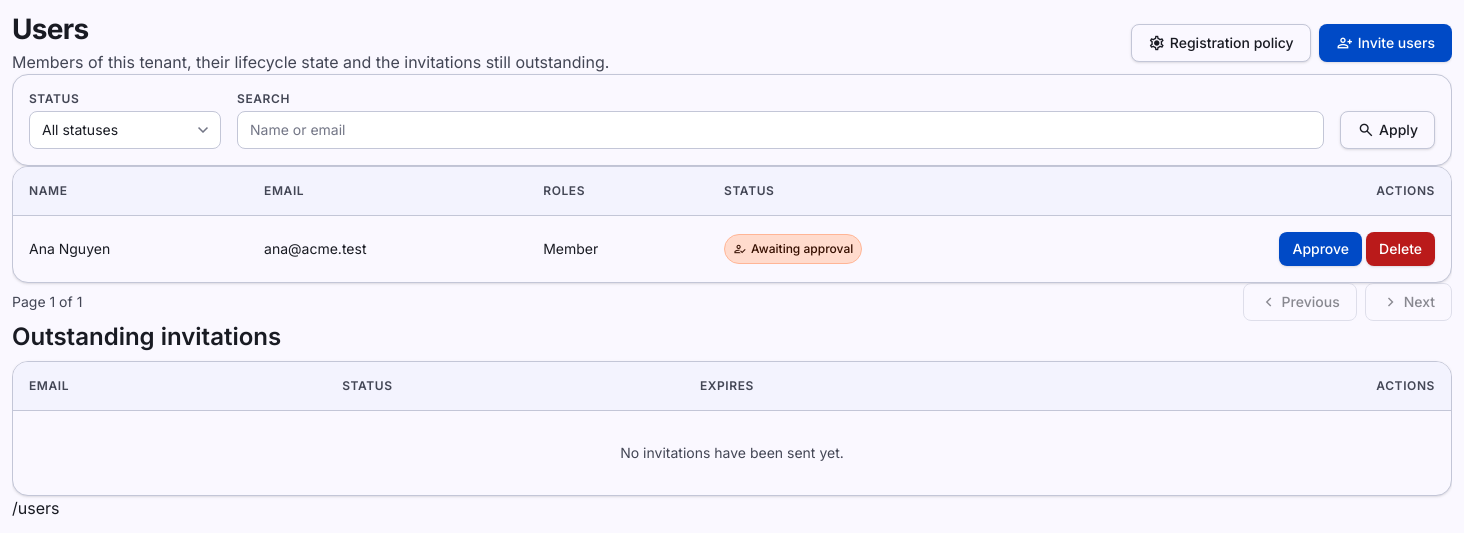
Test: UsersPage › offers approve only for a pending user and refreshes after it succeeds
Click the button "Approve" at (1321, 249), box [1280,232,1362,266]
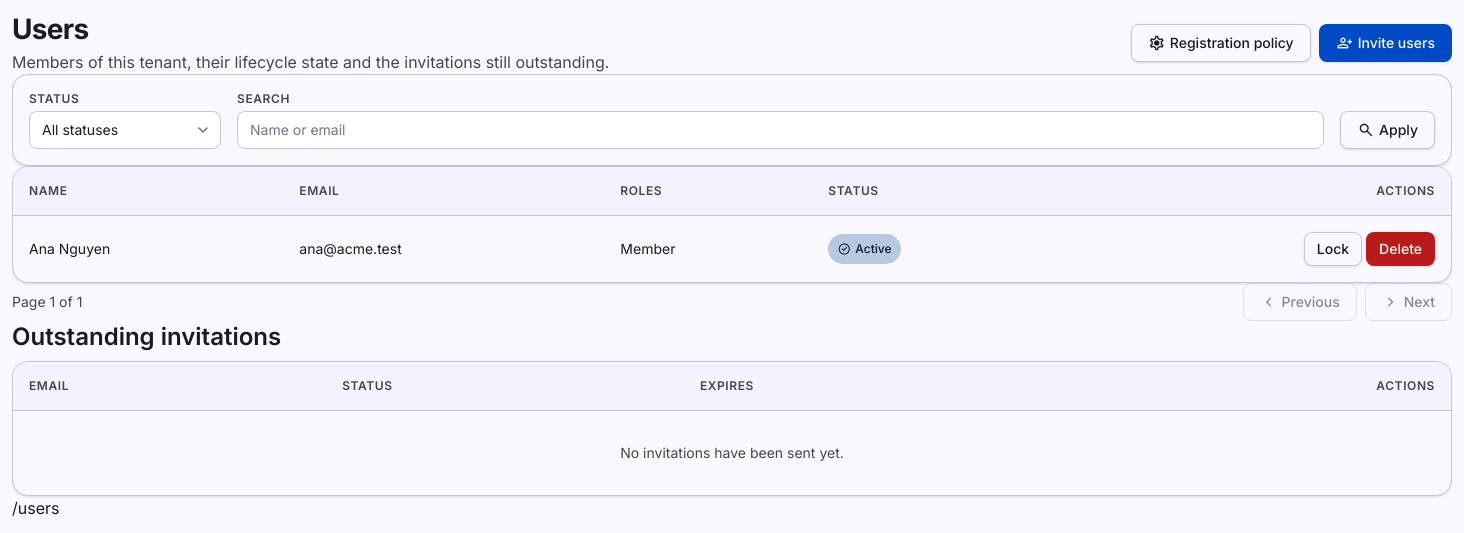
Check: the button "Lock" is shown, box [1304,232,1362,266]
